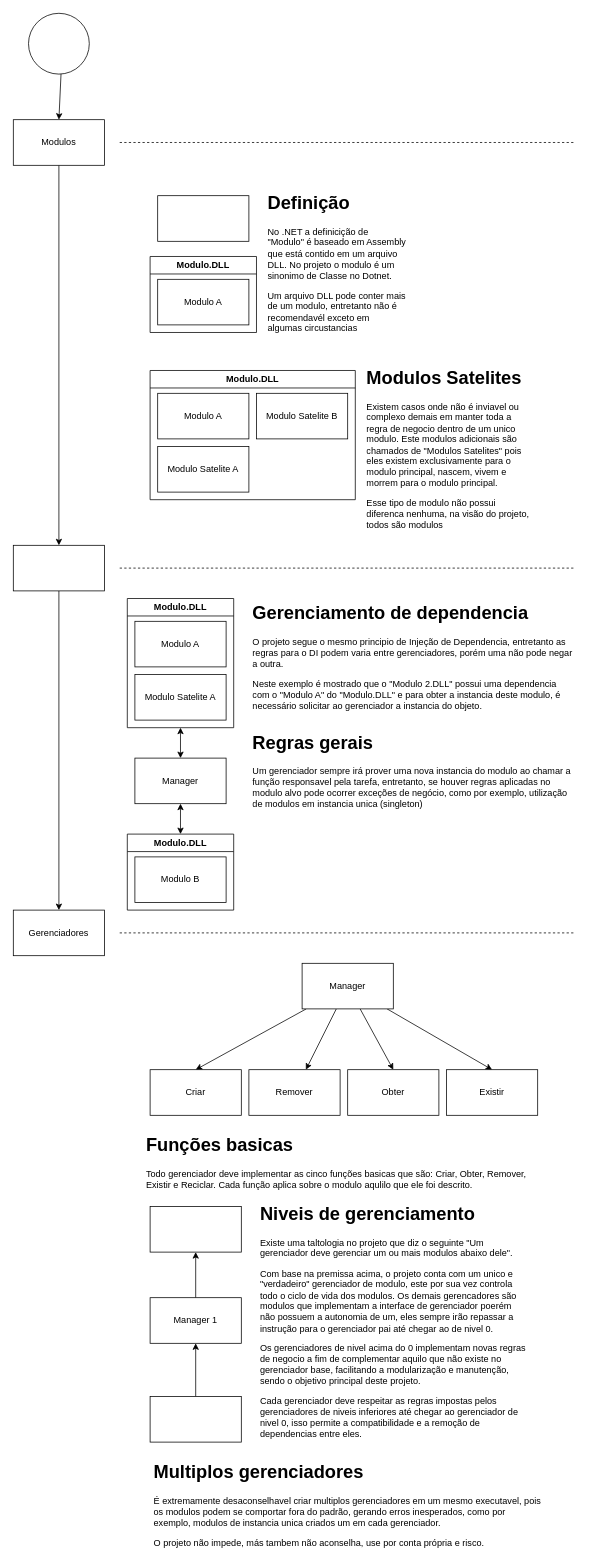
This 590x1562 diagram has some shape labels left out. The shapes that lost their labels are listed below. From the top down, each one's centre as x and y in pixels, then its label:
At point 203,218: "Classe = Modulo".
At point 58,568: "Dependencias".
At point 195,1229: "Manager 0".
At point 195,1419: "Manager 2".
